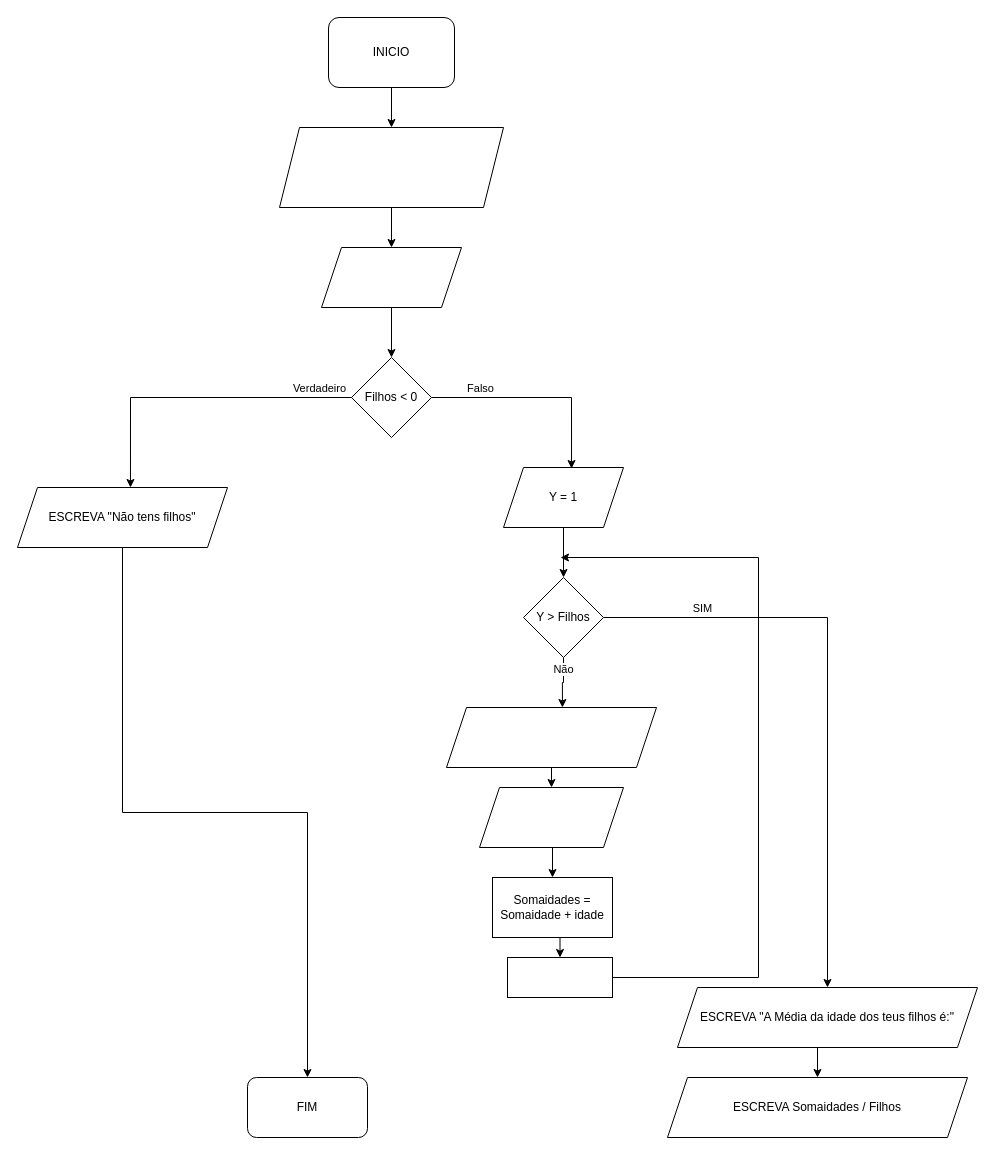
This 995x1155 diagram has some shape labels left out. The centre of each missing label's shape, as x and y in pixels:
ESCREVA "Qual é a idade do inquilino?": (551,737)
ESCREVA "Quantos filhos tens?": (391,167)
LEIA (Filhos): (391,277)
LER (Idade): (551,817)
Y = Y + 1: (559,977)
